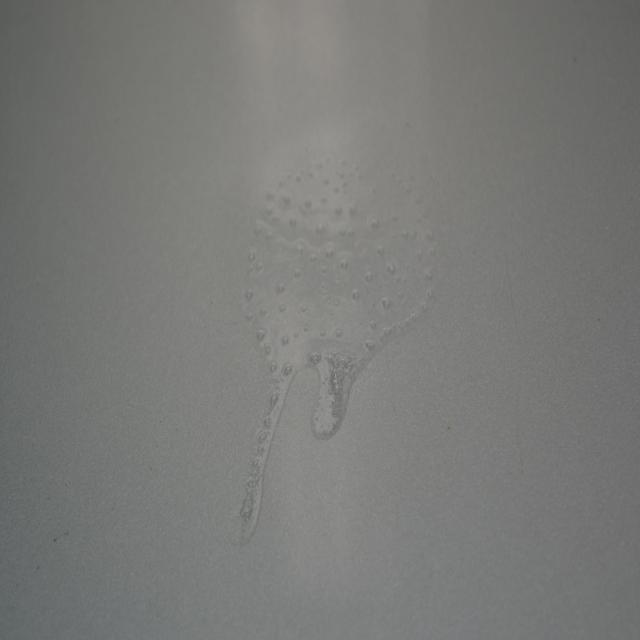runs: (235, 151, 449, 553)
